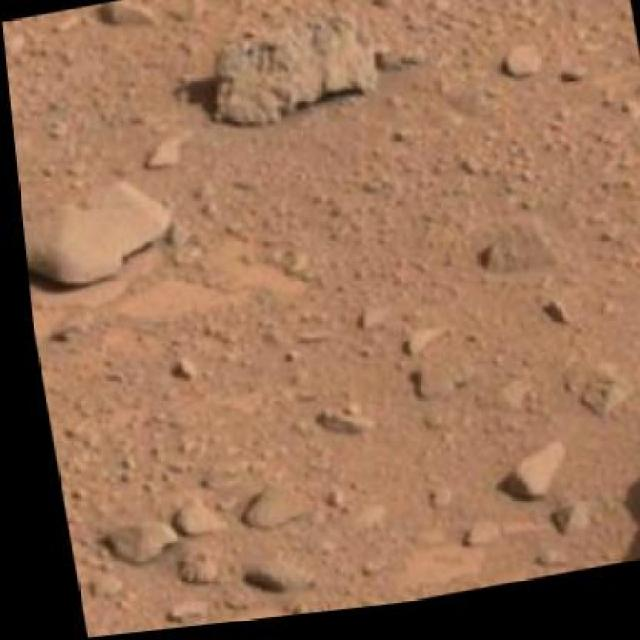rock: (189, 8, 388, 148), (15, 169, 174, 302)
